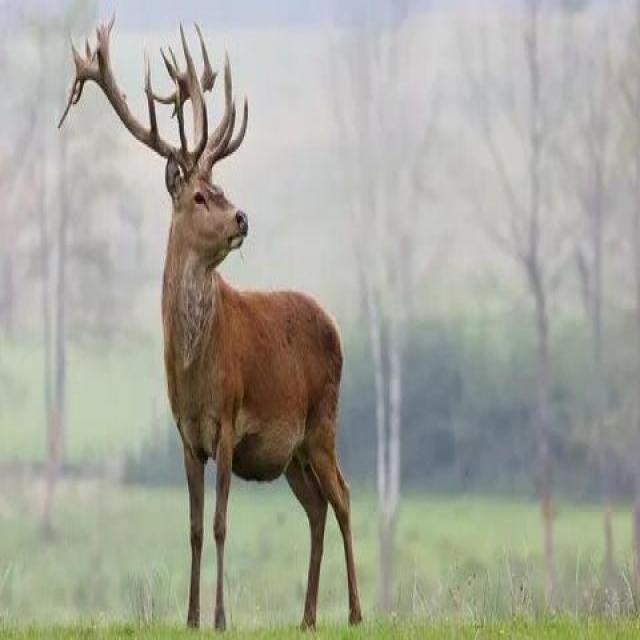deer: (115, 74, 382, 553)
